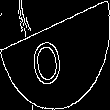O_N: (36, 24, 74, 86)
